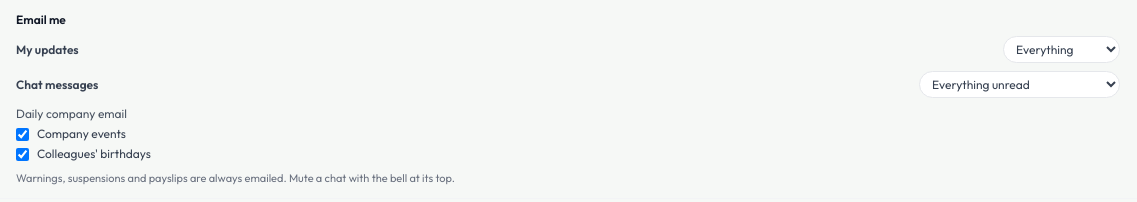
Test: the daily company email in my email settings › events and birthdays are on; birthdays can be turned off on their own
The image size is (1137, 202).
Expected: the checkbox labelled "Company events" is checked, [16,128,29,140]
Click the checkbox labelled "Colleagues' birthdays".
click(22, 154)  # box [16,148,29,160]
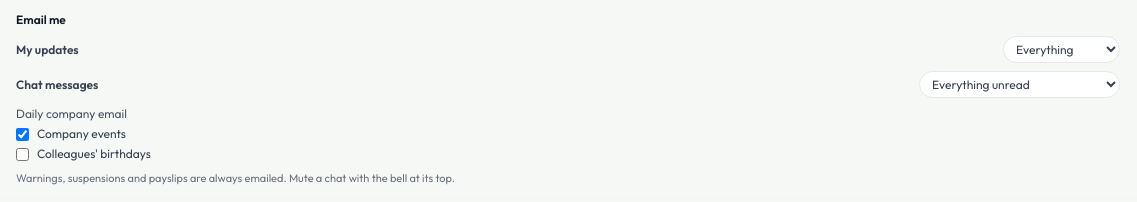
Expected: the checkbox labelled "Company events" is checked, [16,128,29,140]
Result: the checkbox labelled "Colleagues' birthdays" is not checked at [16,148,29,160]
